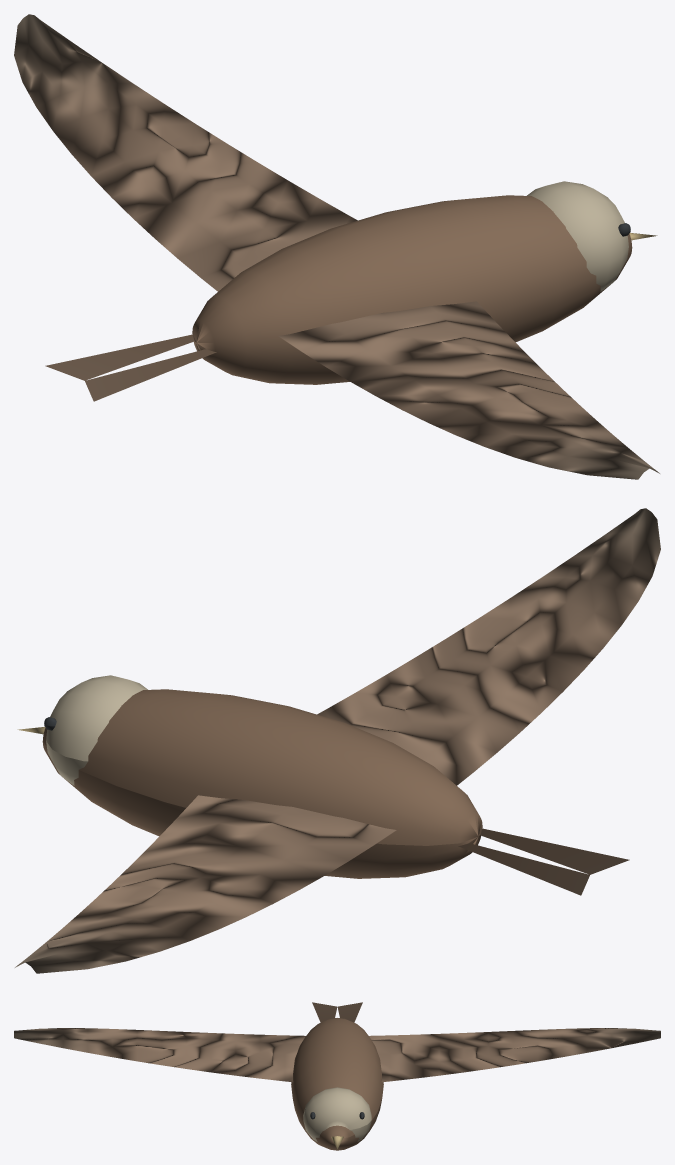
File: SM_DBA_Bird_Eagle.fbx
3 renders of one model, top to bottom at view 1: azimuth 30°, elevation 25°; view 2: azimuth 150°, elevation 25°; view 3: azimuth 270°, elevation 25°, orthographic. The views are drawn at different scales.
Visible parts, largest first — view 1: SM_DBA_Bird_Eagle; view 2: SM_DBA_Bird_Eagle; view 3: SM_DBA_Bird_Eagle.
Boxes of the visible parts, x1,y1,x2,y2 form: SM_DBA_Bird_Eagle: (14,14,659,479); SM_DBA_Bird_Eagle: (15,508,660,973); SM_DBA_Bird_Eagle: (14,1002,660,1150).
Bounding box in the file's own units: 2.79 × 1.53 × 0.36.
